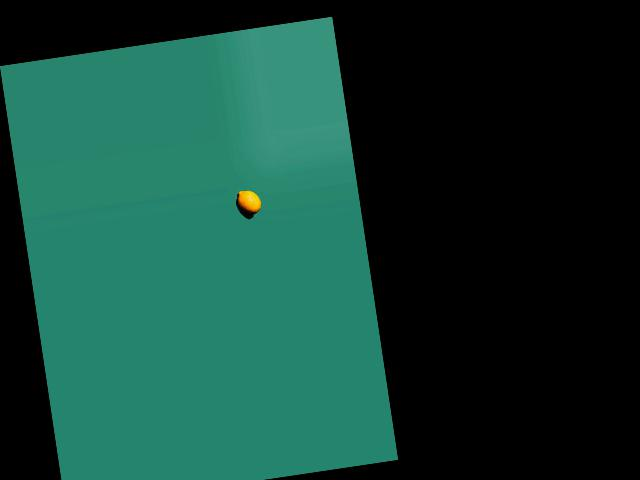lemon: (232, 186, 262, 223)
